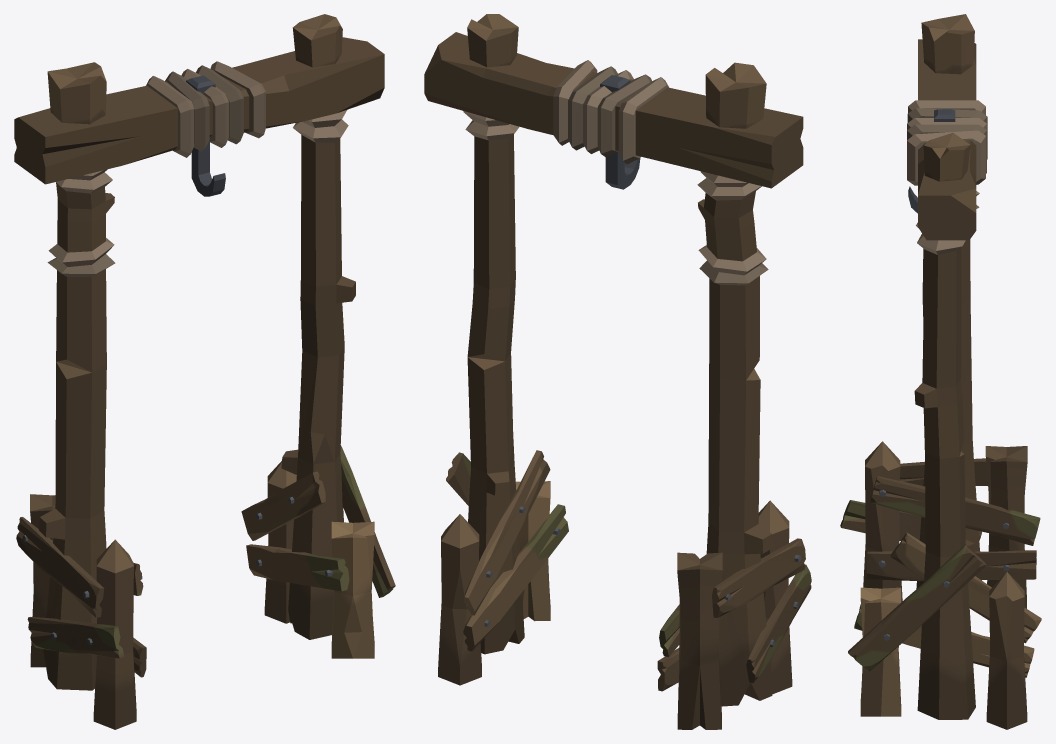
The model's file is SM_Prop_Fish_Crane_01.fbx.
3 views of the same model, side by side, from view 1: azimuth 30°, elevation 25°; view 2: azimuth 150°, elevation 25°; view 3: azimuth 270°, elevation 25° (orthographic). The views are drawn at different scales.
Parts seen in each view (by area): view 1: SM_Prop_Fish_Crane_01, SM_Prop_Fish_Crane_01_Hook; view 2: SM_Prop_Fish_Crane_01, SM_Prop_Fish_Crane_01_Hook; view 3: SM_Prop_Fish_Crane_01, SM_Prop_Fish_Crane_01_Hook.
Part boxes in pixels (bbox=[...]): SM_Prop_Fish_Crane_01: bbox=[14, 14, 395, 729]; SM_Prop_Fish_Crane_01_Hook: bbox=[186, 75, 225, 196]; SM_Prop_Fish_Crane_01: bbox=[424, 14, 811, 729]; SM_Prop_Fish_Crane_01_Hook: bbox=[600, 75, 640, 189]; SM_Prop_Fish_Crane_01: bbox=[840, 14, 1041, 729]; SM_Prop_Fish_Crane_01_Hook: bbox=[908, 109, 955, 213].
Bounding box in the file's own units: 347 × 610 × 189.
